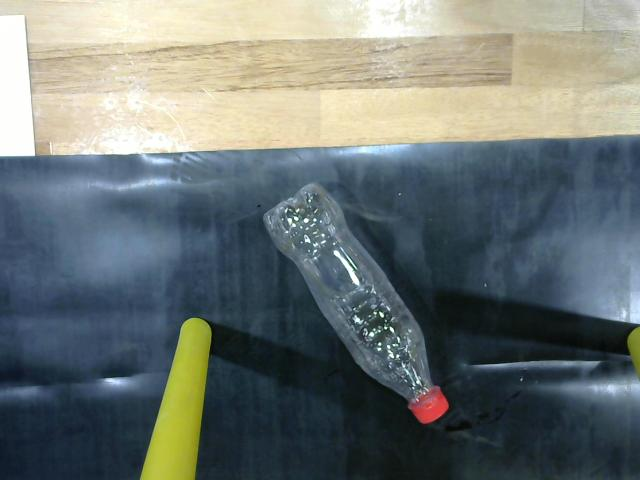bottle: (256, 173, 462, 431)
